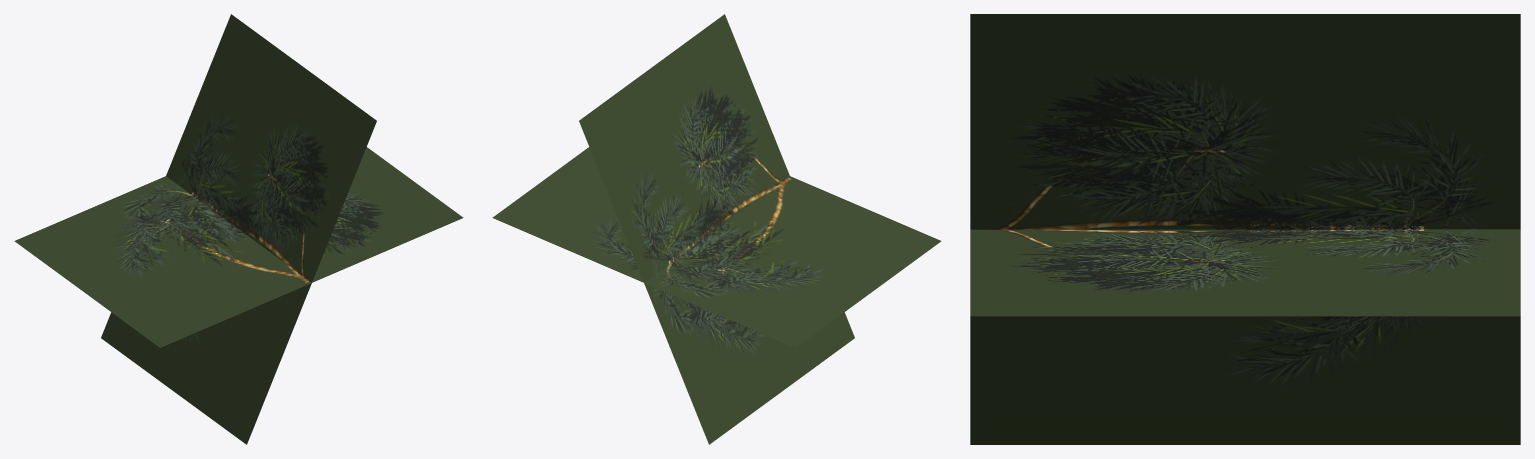
3 renders of one model, left to right at view 1: azimuth 30°, elevation 25°; view 2: azimuth 150°, elevation 25°; view 3: azimuth 270°, elevation 25°, orthographic. The views are drawn at different scales.
Visible parts, largest first — view 1: palmacacia.jpg__; view 2: palmacacia.jpg__; view 3: palmacacia.jpg__.
Part boxes in pixels (bbox=[...]): palmacacia.jpg__: bbox=[14, 14, 463, 444]; palmacacia.jpg__: bbox=[492, 14, 941, 444]; palmacacia.jpg__: bbox=[970, 14, 1520, 444].
Bounding box in the file's own units: 11.52 × 10.6 × 9.6.
1 material, 1 textured.
